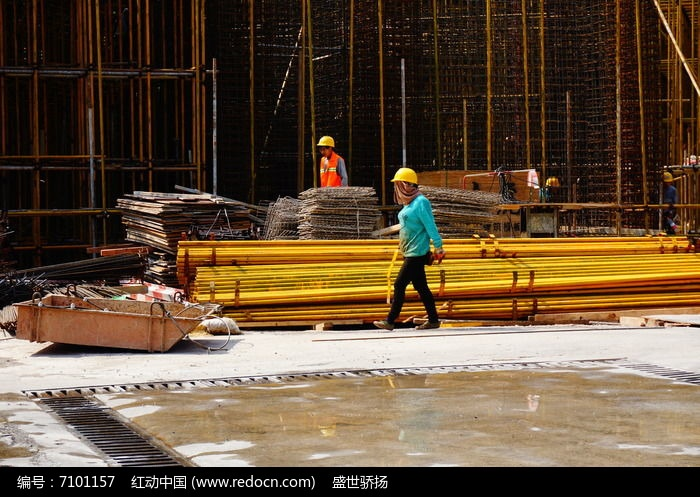yellow: (391, 167, 418, 198), (316, 134, 333, 155), (660, 171, 673, 187)
